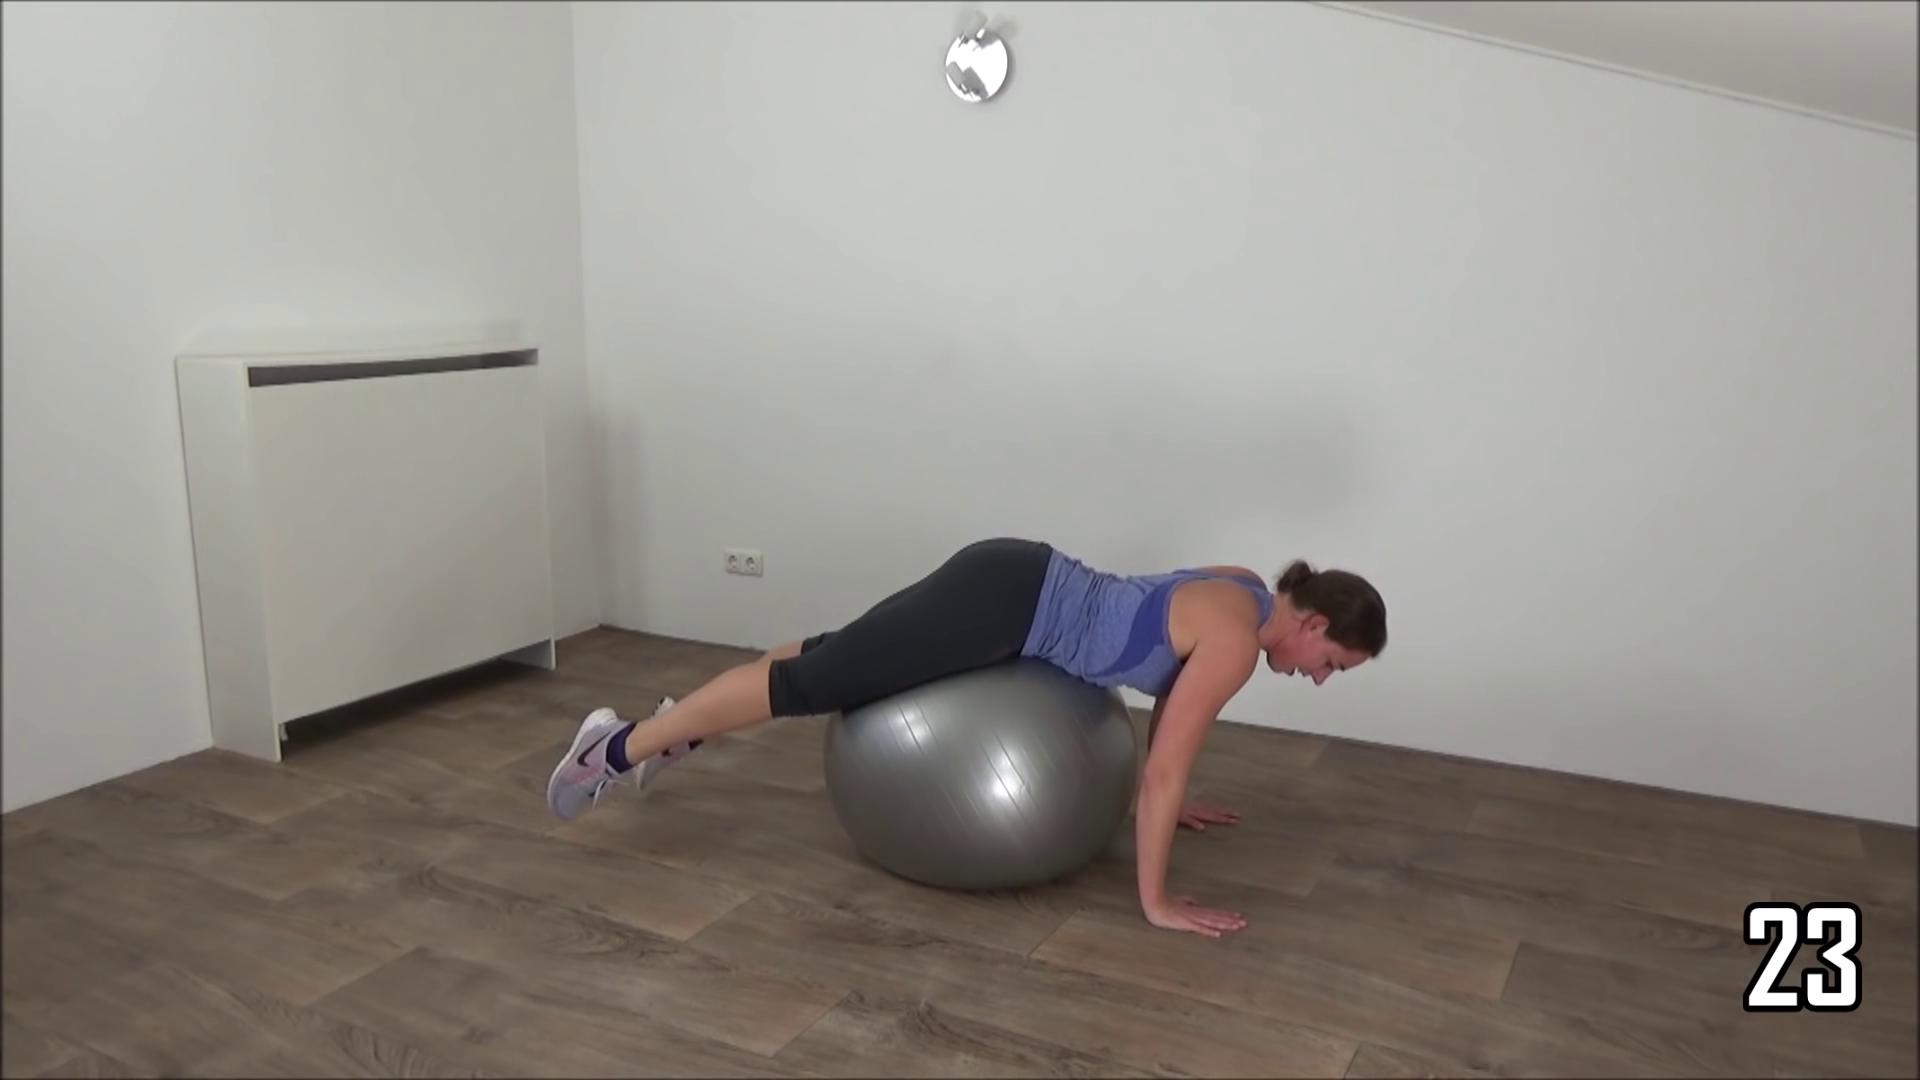yogaball: (800, 644, 1149, 903)
